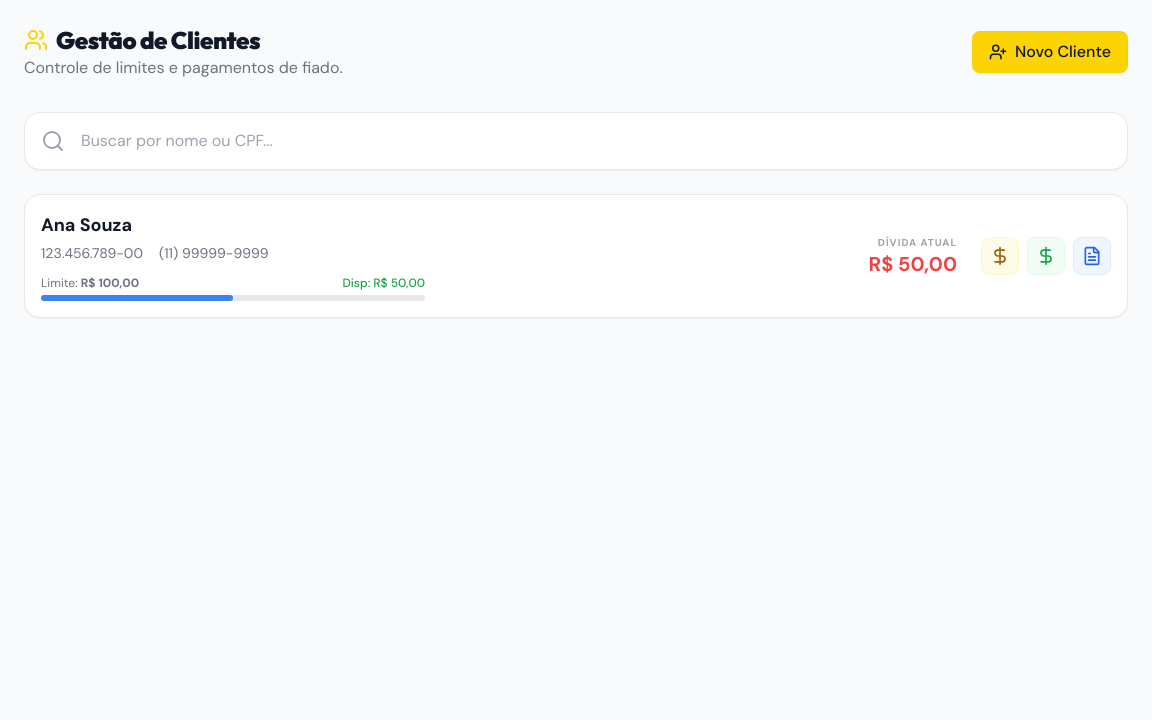
Test: Customers credit limit editing › gives the credit-limit field a programmatic name
Click the button named "Editar limite de Ana Souza" at (1000, 256), box [981,237,1019,275]
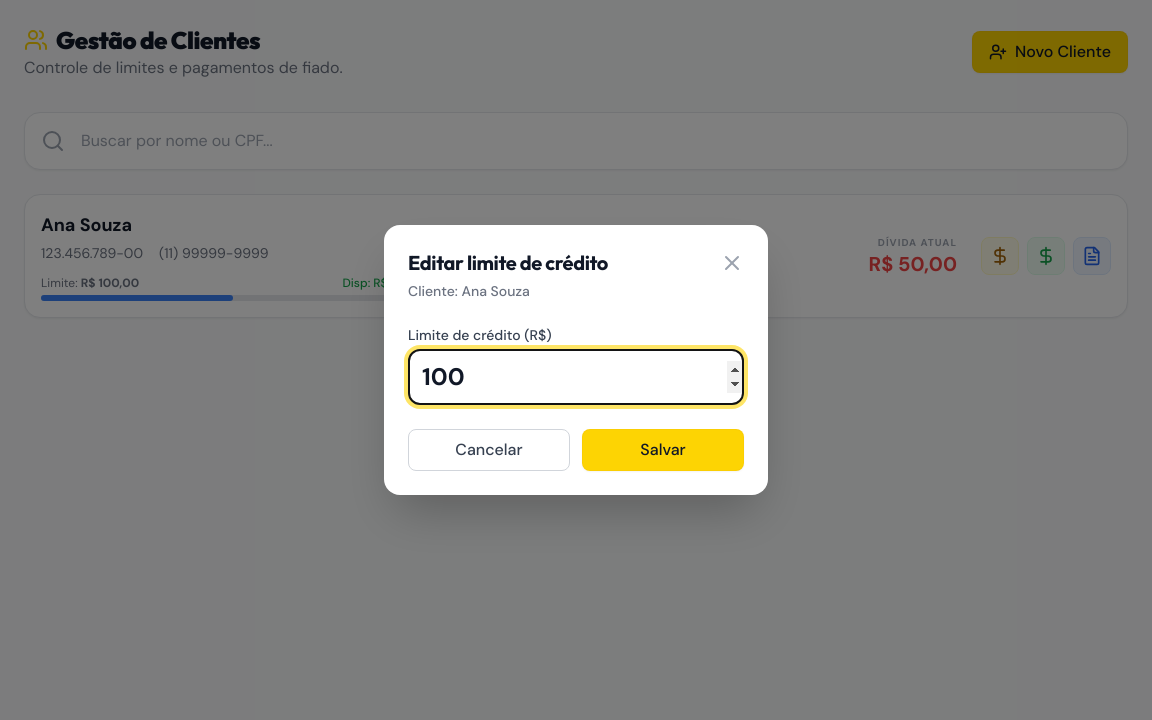
Expected: the number field named "Limite de crédito (R$)" is shown, [408,349,744,405]
